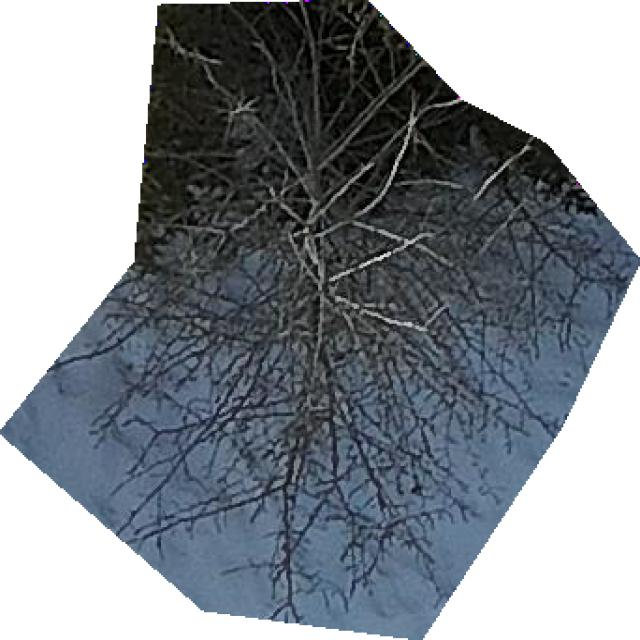trembling aspen: (2, 0, 638, 638)
